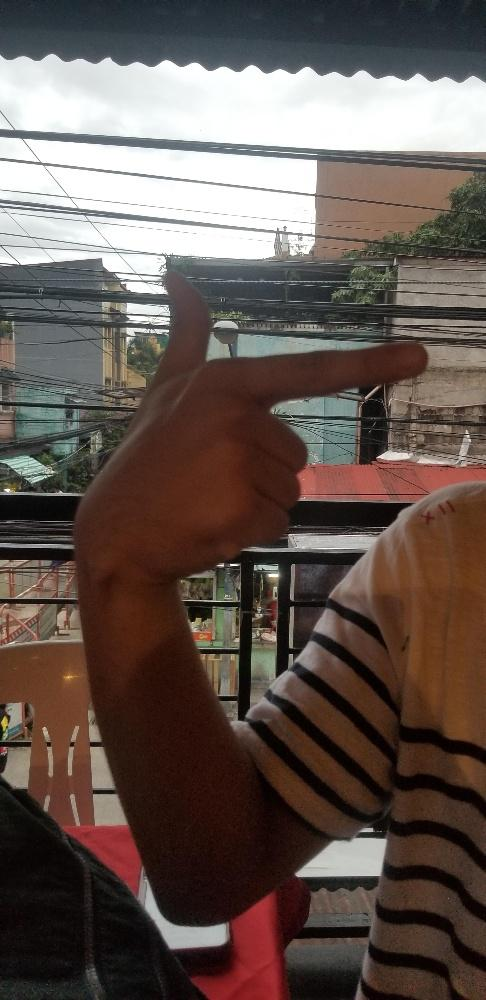g: (71, 272, 428, 578)
